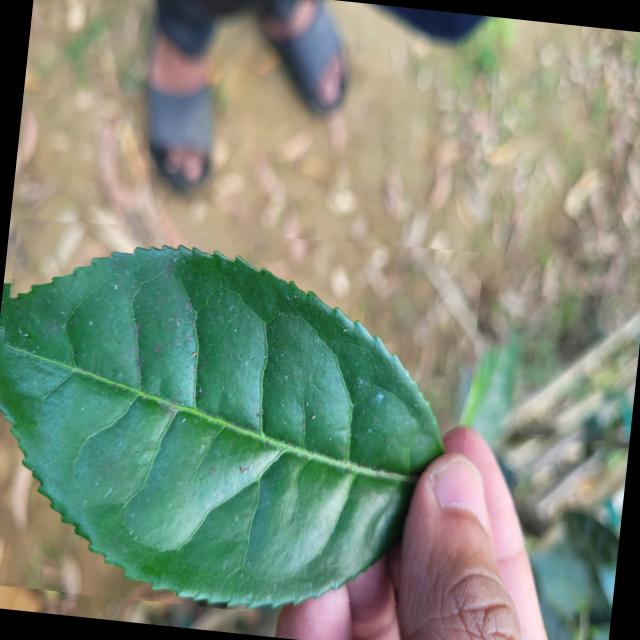Category D 7+ days, Not for Tea: (0, 202, 483, 632)
